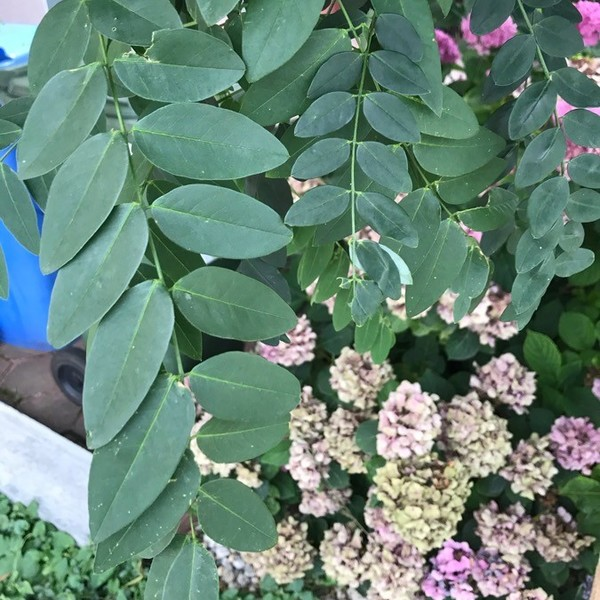obstacle: (17, 1, 311, 583), (286, 20, 589, 341), (291, 347, 572, 594)
